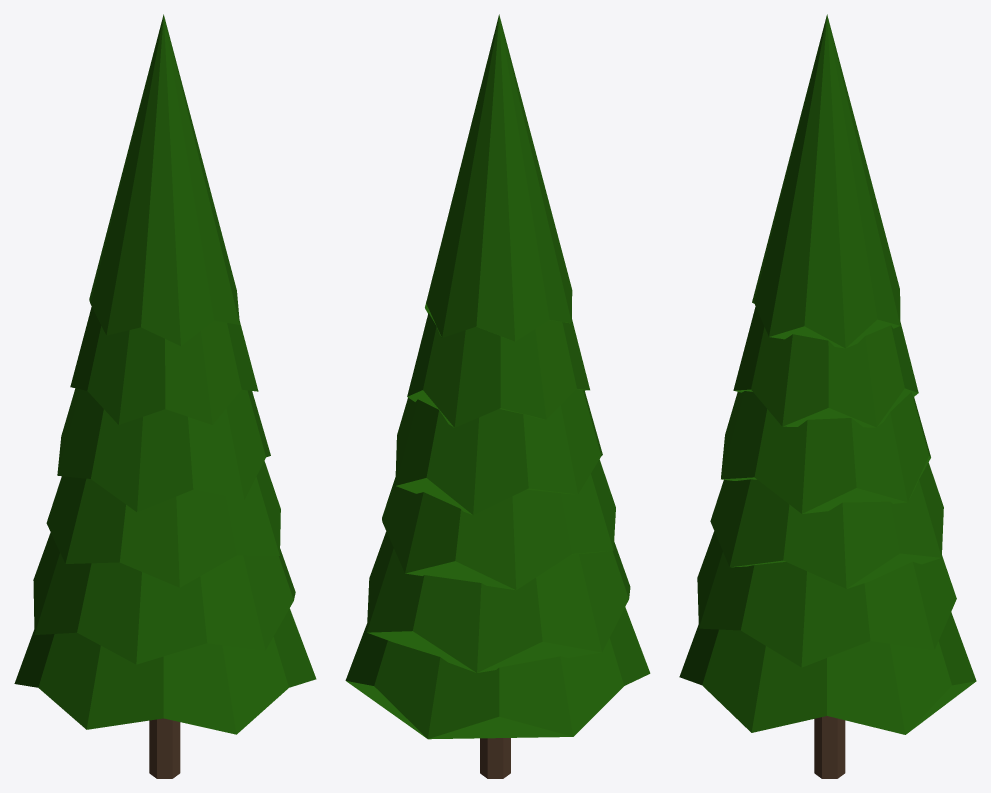
The model's file is Spruce2.fbx.
The picture shows the model from 3 angles, left to right: view 1: azimuth 30°, elevation 25°; view 2: azimuth 150°, elevation 25°; view 3: azimuth 270°, elevation 25°; orthographic projection.
Parts seen in each view (by area): view 1: Cone.008; view 2: Cone.008; view 3: Cone.008.
Boxes of the visible parts, bbox=[...] form: Cone.008: bbox=[14, 14, 316, 778]; Cone.008: bbox=[345, 14, 650, 778]; Cone.008: bbox=[679, 14, 976, 778].
Size of the model in its own units: 30.19 by 87.52 by 31.1.
